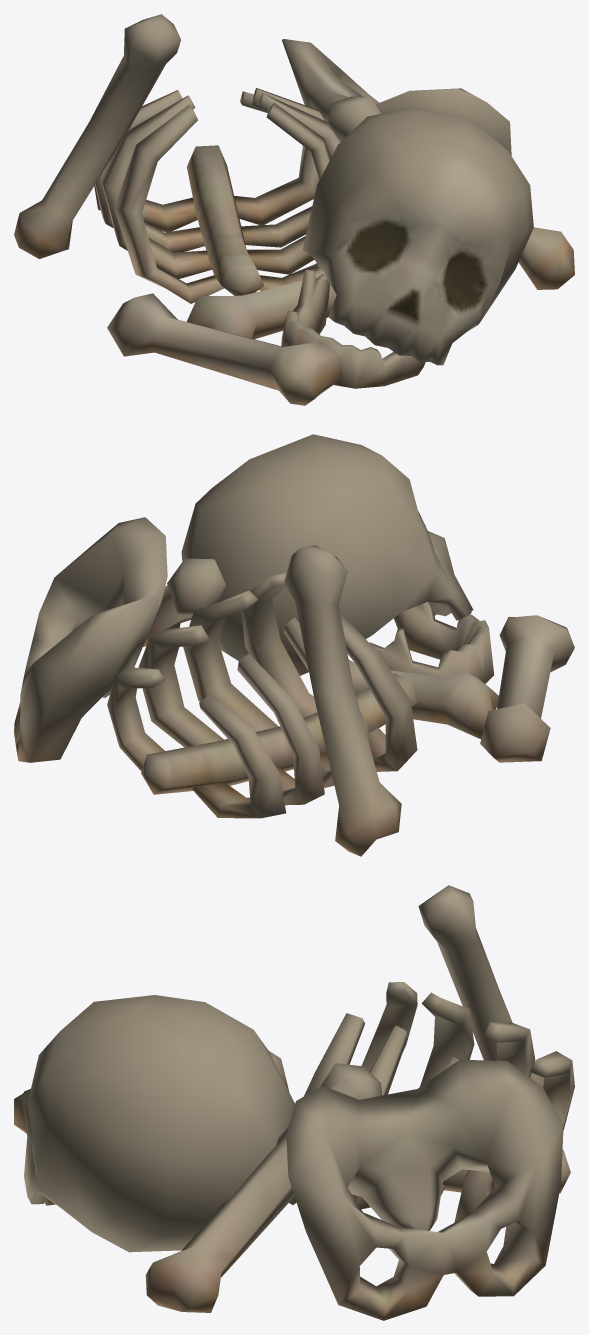
3 renders of one model, top to bottom at view 1: azimuth 30°, elevation 25°; view 2: azimuth 150°, elevation 25°; view 3: azimuth 270°, elevation 25°, orthographic. The views are drawn at different scales.
Bounding box in the file's own units: 9.22 × 4.97 × 9.35.
1 material, 1 textured.
